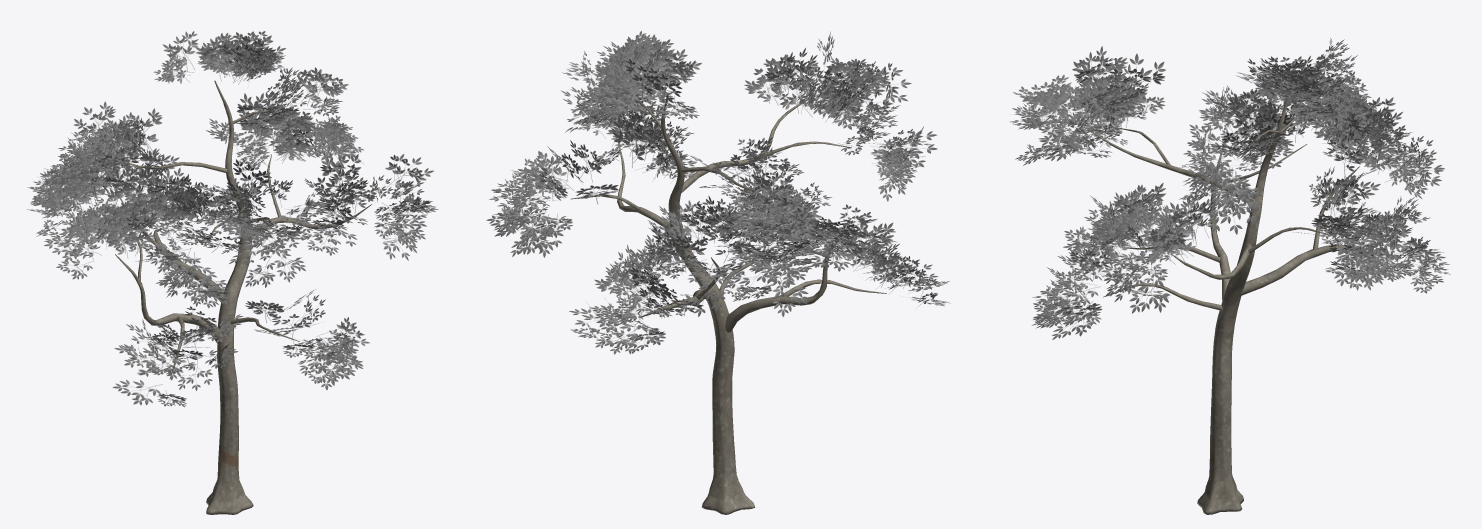
Rendered from RT_Mature_C_LOD3.glb.
The picture shows the model from 3 angles, left to right: view 1: azimuth 30°, elevation 25°; view 2: azimuth 150°, elevation 25°; view 3: azimuth 270°, elevation 25°; orthographic projection. The views are drawn at different scales.
Visible parts, largest first — view 1: RT_Mature_C_LOD3_LeafCards, RT_Mature_C_LOD3_Body; view 2: RT_Mature_C_LOD3_LeafCards, RT_Mature_C_LOD3_Body; view 3: RT_Mature_C_LOD3_LeafCards, RT_Mature_C_LOD3_Body.
Boxes of the visible parts, x1,y1,x2,y2 form: RT_Mature_C_LOD3_LeafCards: (27,31,438,407); RT_Mature_C_LOD3_Body: (102,80,372,514); RT_Mature_C_LOD3_LeafCards: (486,31,950,354); RT_Mature_C_LOD3_Body: (570,92,886,514); RT_Mature_C_LOD3_LeafCards: (1010,38,1450,339); RT_Mature_C_LOD3_Body: (1084,86,1376,514).
Bounding box in the file's own units: 11.91 × 14.28 × 12.45.
Materials: 2 (2 with a texture image).
